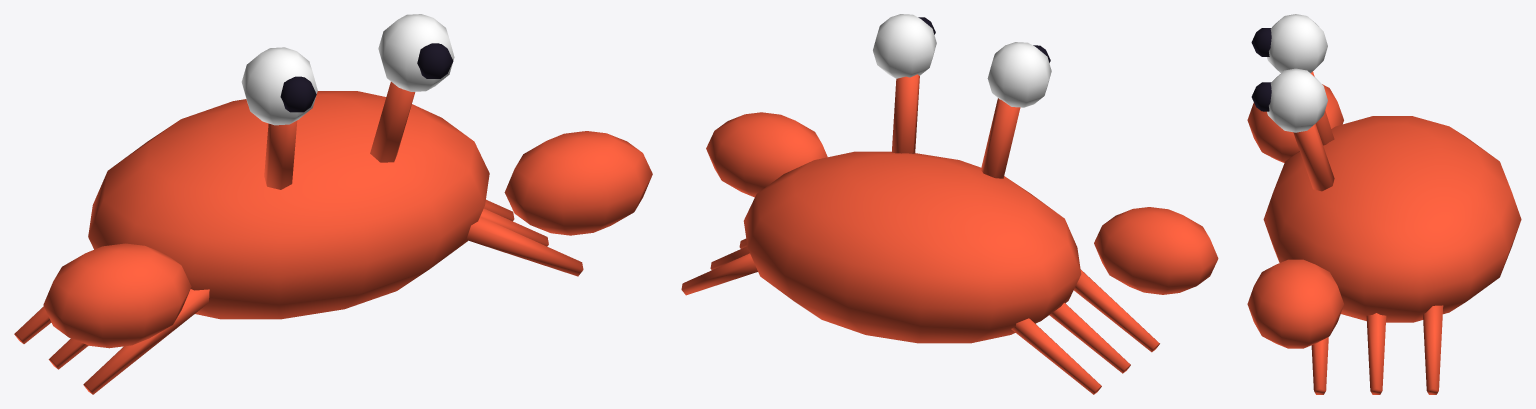
Rendered from crab.glb.
The picture shows the model from 3 angles, left to right: view 1: azimuth 30°, elevation 25°; view 2: azimuth 150°, elevation 25°; view 3: azimuth 270°, elevation 25°; orthographic projection. The views are drawn at different scales.
Visible parts, largest first — view 1: Crab; view 2: Crab; view 3: Crab.
Part boxes in pixels (<box>): Crab: <box>14,14,652,394</box>; Crab: <box>681,14,1218,394</box>; Crab: <box>1247,14,1521,394</box>.
Size of the model in its own units: 0.6922 by 0.3479 by 0.34.
